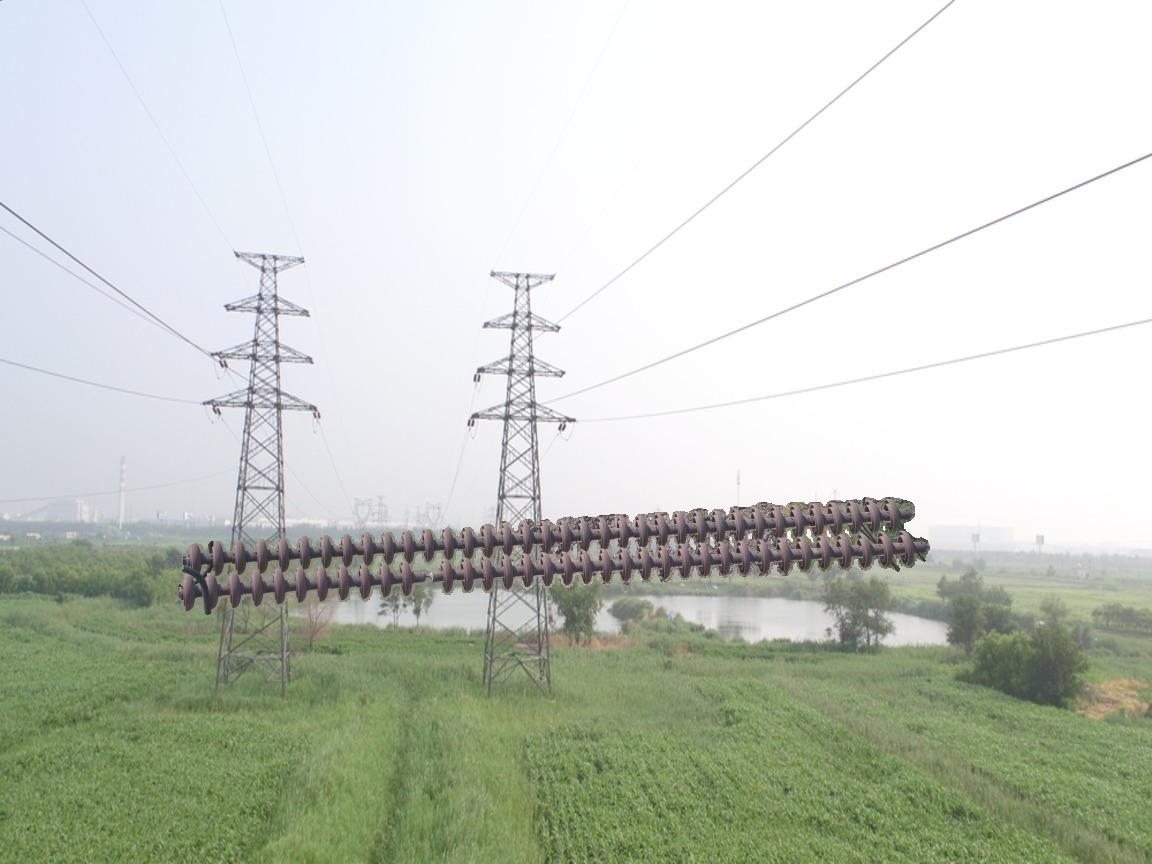defect: (394, 559, 461, 596)
